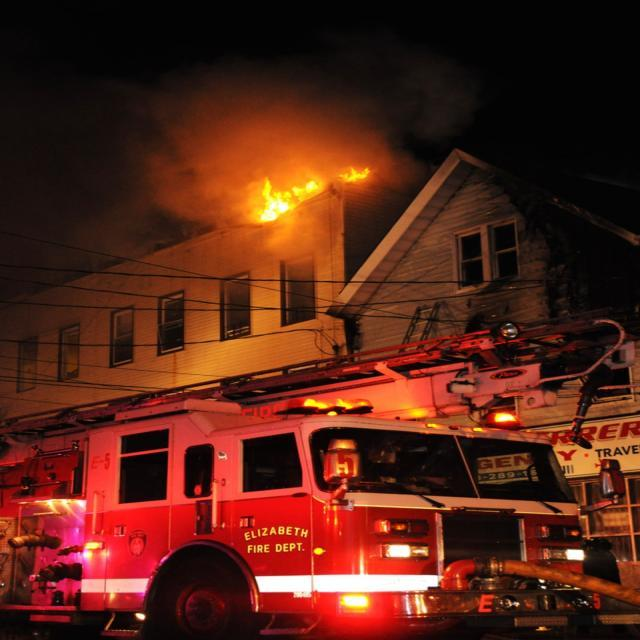Fire: (203, 143, 390, 245)
